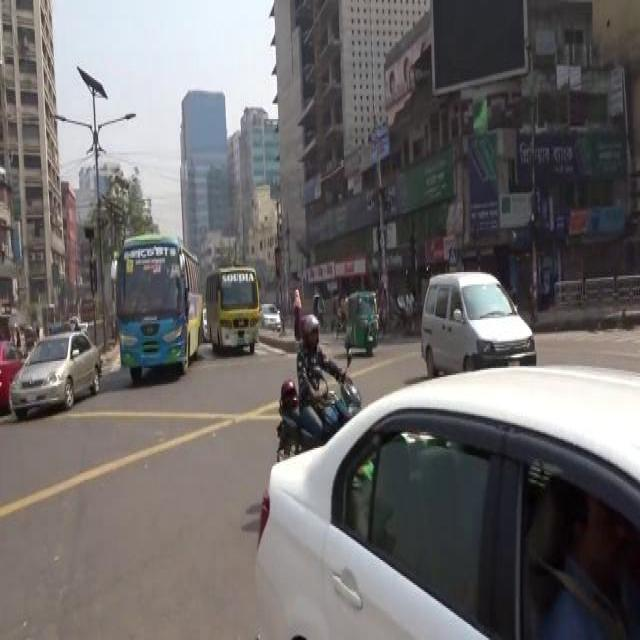bus: (112, 230, 202, 367), (204, 266, 260, 348)
car: (253, 366, 639, 636), (7, 332, 101, 408), (260, 300, 280, 329)
minivan: (419, 269, 536, 371)
motorbike: (276, 372, 362, 461)
rickshaw: (389, 290, 418, 336), (311, 292, 325, 331), (332, 292, 344, 337), (22, 324, 34, 348)
three wheelers -CNG-: (342, 288, 378, 352)
